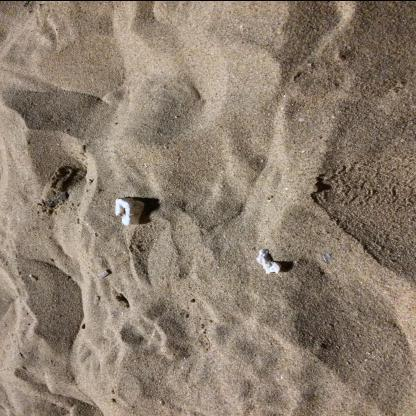kopuk: (115, 198, 146, 226), (257, 249, 283, 274)
